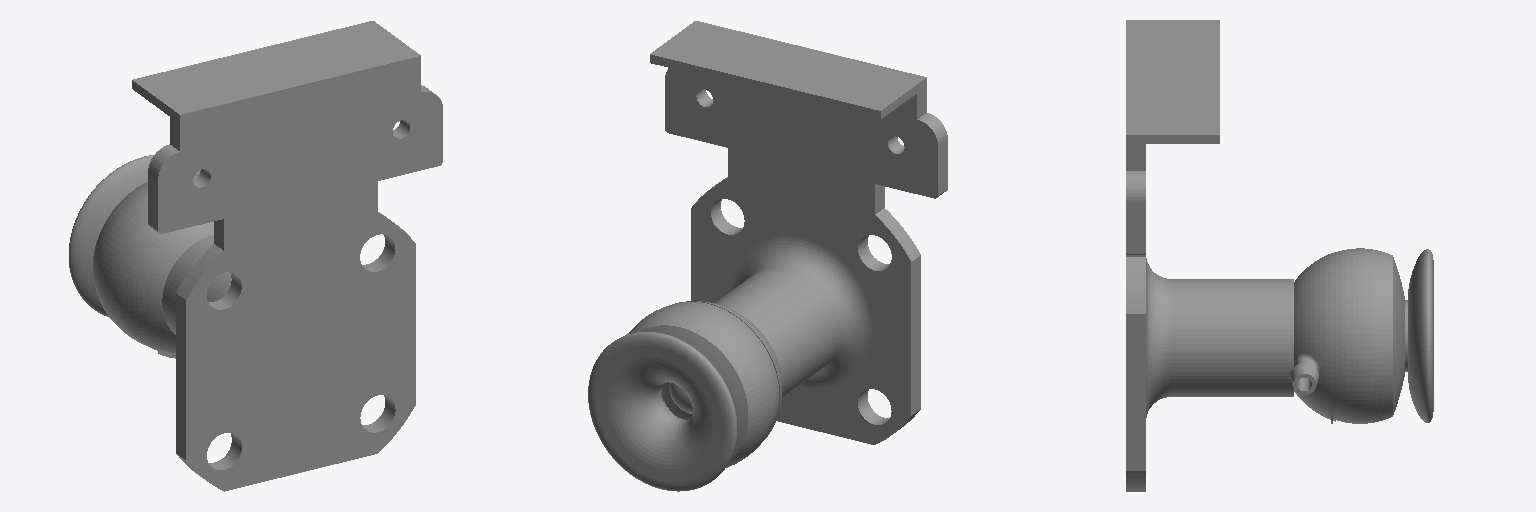
URDF robot description (ur3e_robot):
<?xml version="1.0" ?>
<!-- =================================================================================== -->
<!-- |    This document was autogenerated by xacro from [local-path]/PycharmProjects/realsense/catkin_ws/src/universal_robot/ur_description/urdf/ur3e.xacro | -->
<!-- |    EDITING THIS FILE BY HAND IS NOT RECOMMENDED                                 | -->
<!-- =================================================================================== -->
<robot name="ur3e_robot">
  <!--
    Base UR robot series xacro macro.

    NOTE: this is NOT a URDF. It cannot directly be loaded by consumers
    expecting a flattened '.urdf' file. See the top-level '.xacro' for that
    (but note: that .xacro must still be processed by the xacro command).

    For use in '.launch' files: use one of the 'load_urX.launch' convenience
    launch files.

    This file models the base kinematic chain of a UR robot, which then gets
    parameterised by various configuration files to convert it into a UR3(e),
    UR5(e), UR10(e), UR16e, UR20 or UR30.

    NOTE: the default kinematic parameters (ie: link lengths, frame locations,
    offets, etc) do not correspond to any particular robot. They are defaults
    only. There WILL be non-zero offsets between the Forward Kinematics results
    in TF (ie: robot_state_publisher) and the values reported by the Teach
    Pendant.

    For accurate (and robot-specific) transforms, the 'kinematics_parameters_file'
    parameter MUST point to a .yaml file containing the appropriate values for
    the targetted robot.

    If using the UniversalRobots/Universal_Robots_ROS_Driver, follow the steps
    described in the readme of that repository to extract the kinematic
    calibration from the controller and generate the required .yaml file.

    Main author of the migration to yaml configs: [author].

    Contributors to previous versions (in no particular order):

     - [author]
     - [author]
     - [author]
     - [author]
     - [author]
     - [author]
     - [author]
     - [author]
     - [author]
     - [author]
     - [author]
     - [author]
     - [author]
     - [author]
     - [author]
     - [author]
     - [author]
  -->
  <!--
    NOTE: the macro defined in this file is NOT part of the public API of this
          package. Users CANNOT rely on this file being available, or stored in
          this location. Nor can they rely on the existence of the macro.
  -->
  <transmission name="shoulder_pan_trans">
    <type>transmission_interface/SimpleTransmission</type>
    <joint name="shoulder_pan_joint">
      <hardwareInterface>hardware_interface/PositionJointInterface</hardwareInterface>
    </joint>
    <actuator name="shoulder_pan_motor">
      <mechanicalReduction>1</mechanicalReduction>
    </actuator>
  </transmission>
  <transmission name="shoulder_lift_trans">
    <type>transmission_interface/SimpleTransmission</type>
    <joint name="shoulder_lift_joint">
      <hardwareInterface>hardware_interface/PositionJointInterface</hardwareInterface>
    </joint>
    <actuator name="shoulder_lift_motor">
      <mechanicalReduction>1</mechanicalReduction>
    </actuator>
  </transmission>
  <transmission name="elbow_trans">
    <type>transmission_interface/SimpleTransmission</type>
    <joint name="elbow_joint">
      <hardwareInterface>hardware_interface/PositionJointInterface</hardwareInterface>
    </joint>
    <actuator name="elbow_motor">
      <mechanicalReduction>1</mechanicalReduction>
    </actuator>
  </transmission>
  <transmission name="wrist_1_trans">
    <type>transmission_interface/SimpleTransmission</type>
    <joint name="wrist_1_joint">
      <hardwareInterface>hardware_interface/PositionJointInterface</hardwareInterface>
    </joint>
    <actuator name="wrist_1_motor">
      <mechanicalReduction>1</mechanicalReduction>
    </actuator>
  </transmission>
  <transmission name="wrist_2_trans">
    <type>transmission_interface/SimpleTransmission</type>
    <joint name="wrist_2_joint">
      <hardwareInterface>hardware_interface/PositionJointInterface</hardwareInterface>
    </joint>
    <actuator name="wrist_2_motor">
      <mechanicalReduction>1</mechanicalReduction>
    </actuator>
  </transmission>
  <transmission name="wrist_3_trans">
    <type>transmission_interface/SimpleTransmission</type>
    <joint name="wrist_3_joint">
      <hardwareInterface>hardware_interface/PositionJointInterface</hardwareInterface>
    </joint>
    <actuator name="wrist_3_motor">
      <mechanicalReduction>1</mechanicalReduction>
    </actuator>
  </transmission>
  <!-- links: main serial chain -->
  <link name="base_link"/>
  <link name="base_link_inertia">
    <visual>
      <origin rpy="0 0 3.141592653589793" xyz="0 0 0"/>
      <geometry>
        <mesh filename="package://ur_description/meshes/ur3e/visual/base.dae"/>
      </geometry>
      <material name="LightGrey">
        <color rgba="0.7 0.7 0.7 1.0"/>
      </material>
    </visual>
    <collision>
      <origin rpy="0 0 3.141592653589793" xyz="0 0 0"/>
      <geometry>
        <mesh filename="package://ur_description/meshes/ur3e/collision/base.stl"/>
      </geometry>
    </collision>
    <inertial>
      <mass value="2.0"/>
      <origin rpy="0 0 0" xyz="0 0 0"/>
      <inertia ixx="0.0030531654454" ixy="0.0" ixz="0.0" iyy="0.0030531654454" iyz="0.0" izz="0.005625"/>
    </inertial>
  </link>
  <link name="shoulder_link">
    <visual>
      <origin rpy="0 0 3.141592653589793" xyz="0 0 0"/>
      <geometry>
        <mesh filename="package://ur_description/meshes/ur3e/visual/shoulder.dae"/>
      </geometry>
      <material name="LightGrey">
        <color rgba="0.7 0.7 0.7 1.0"/>
      </material>
    </visual>
    <collision>
      <origin rpy="0 0 3.141592653589793" xyz="0 0 0"/>
      <geometry>
        <mesh filename="package://ur_description/meshes/ur3e/collision/shoulder.stl"/>
      </geometry>
    </collision>
    <inertial>
      <mass value="2.0"/>
      <origin rpy="0 0 0" xyz="0 0 0"/>
      <inertia ixx="0.008093163429399999" ixy="0.0" ixz="0.0" iyy="0.008093163429399999" iyz="0.0" izz="0.005625"/>
    </inertial>
  </link>
  <link name="upper_arm_link">
    <visual>
      <origin rpy="1.5707963267948966 0 -1.5707963267948966" xyz="0 0 0.12"/>
      <geometry>
        <mesh filename="package://ur_description/meshes/ur3e/visual/upperarm.dae"/>
      </geometry>
      <material name="LightGrey">
        <color rgba="0.7 0.7 0.7 1.0"/>
      </material>
    </visual>
    <collision>
      <origin rpy="1.5707963267948966 0 -1.5707963267948966" xyz="0 0 0.12"/>
      <geometry>
        <mesh filename="package://ur_description/meshes/ur3e/collision/upperarm.stl"/>
      </geometry>
    </collision>
    <inertial>
      <mass value="3.42"/>
      <origin rpy="0 1.5707963267948966 0" xyz="-0.121825 0.0 0.12"/>
      <inertia ixx="0.021728483221103233" ixy="0.0" ixz="0.0" iyy="0.021728483221103233" iyz="0.0" izz="0.00961875"/>
    </inertial>
  </link>
  <link name="forearm_link">
    <visual>
      <origin rpy="1.5707963267948966 0 -1.5707963267948966" xyz="0 0 0.027"/>
      <geometry>
        <mesh filename="package://ur_description/meshes/ur3e/visual/forearm.dae"/>
      </geometry>
      <material name="LightGrey">
        <color rgba="0.7 0.7 0.7 1.0"/>
      </material>
    </visual>
    <collision>
      <origin rpy="1.5707963267948966 0 -1.5707963267948966" xyz="0 0 0.027"/>
      <geometry>
        <mesh filename="package://ur_description/meshes/ur3e/collision/forearm.stl"/>
      </geometry>
    </collision>
    <inertial>
      <mass value="1.26"/>
      <origin rpy="0 1.5707963267948966 0" xyz="-0.1066 0.0 0.027"/>
      <inertia ixx="0.0065445675821719194" ixy="0.0" ixz="0.0" iyy="0.0065445675821719194" iyz="0.0" izz="0.00354375"/>
    </inertial>
  </link>
  <link name="wrist_1_link">
    <visual>
      <!-- TODO: Move this to a parameter -->
      <origin rpy="1.5707963267948966 0 0" xyz="0 0 -0.104"/>
      <geometry>
        <mesh filename="package://ur_description/meshes/ur3e/visual/wrist1.dae"/>
      </geometry>
      <material name="LightGrey">
        <color rgba="0.7 0.7 0.7 1.0"/>
      </material>
    </visual>
    <collision>
      <origin rpy="1.5707963267948966 0 0" xyz="0 0 -0.104"/>
      <geometry>
        <mesh filename="package://ur_description/meshes/ur3e/collision/wrist1.stl"/>
      </geometry>
    </collision>
    <inertial>
      <mass value="0.8"/>
      <origin rpy="0 0 0" xyz="0 0 0"/>
      <inertia ixx="0.002084999166" ixy="0.0" ixz="0.0" iyy="0.002084999166" iyz="0.0" izz="0.00225"/>
    </inertial>
  </link>
  <link name="wrist_2_link">
    <visual>
      <origin rpy="0 0 0" xyz="0 0 -0.08535"/>
      <geometry>
        <mesh filename="package://ur_description/meshes/ur3e/visual/wrist2.dae"/>
      </geometry>
      <material name="LightGrey">
        <color rgba="0.7 0.7 0.7 1.0"/>
      </material>
    </visual>
    <collision>
      <origin rpy="0 0 0" xyz="0 0 -0.08535"/>
      <geometry>
        <mesh filename="package://ur_description/meshes/ur3e/collision/wrist2.stl"/>
      </geometry>
    </collision>
    <inertial>
      <mass value="0.8"/>
      <origin rpy="0 0 0" xyz="0 0 0"/>
      <inertia ixx="0.002084999166" ixy="0.0" ixz="0.0" iyy="0.002084999166" iyz="0.0" izz="0.00225"/>
    </inertial>
  </link>
  <link name="wrist_3_link">
    <visual>
      <origin rpy="1.5707963267948966 0 0" xyz="0 0 -0.0921"/>
      <geometry>
        <mesh filename="package://ur_description/meshes/ur3e/visual/wrist3.dae"/>
      </geometry>
      <material name="LightGrey">
        <color rgba="0.7 0.7 0.7 1.0"/>
      </material>
    </visual>
    <collision>
      <origin rpy="1.5707963267948966 0 0" xyz="0 0 -0.0921"/>
      <geometry>
        <mesh filename="package://ur_description/meshes/ur3e/collision/wrist3.stl"/>
      </geometry>
    </collision>
    <inertial>
      <mass value="0.35"/>
      <origin rpy="0 0 0" xyz="0.0 0.0 -0.02"/>
      <inertia ixx="0.00013626661215999998" ixy="0.0" ixz="0.0" iyy="0.00013626661215999998" iyz="0.0" izz="0.0001792"/>
    </inertial>
  </link>
  <!-- joints: main serial chain -->
  <joint name="base_link-base_link_inertia" type="fixed">
    <parent link="base_link"/>
    <child link="base_link_inertia"/>
    <!-- 'base_link' is REP-103 aligned (so X+ forward), while the internal
           frames of the robot/controller have X+ pointing backwards.
           Use the joint between 'base_link' and 'base_link_inertia' (a dummy
           link/frame) to introduce the necessary rotation over Z (of pi rad).
      -->
    <origin rpy="0 0 3.141592653589793" xyz="0 0 0"/>
  </joint>
  <joint name="shoulder_pan_joint" type="revolute">
    <parent link="base_link_inertia"/>
    <child link="shoulder_link"/>
    <origin rpy="0 0 0" xyz="0 0 0.15185"/>
    <axis xyz="0 0 1"/>
    <limit effort="56.0" lower="-6.283185307179586" upper="6.283185307179586" velocity="3.141592653589793"/>
    <dynamics damping="0" friction="0"/>
  </joint>
  <joint name="shoulder_lift_joint" type="revolute">
    <parent link="shoulder_link"/>
    <child link="upper_arm_link"/>
    <origin rpy="1.570796327 0 0" xyz="0 0 0"/>
    <axis xyz="0 0 1"/>
    <limit effort="56.0" lower="-6.283185307179586" upper="6.283185307179586" velocity="3.141592653589793"/>
    <dynamics damping="0" friction="0"/>
  </joint>
  <joint name="elbow_joint" type="revolute">
    <parent link="upper_arm_link"/>
    <child link="forearm_link"/>
    <origin rpy="0 0 0" xyz="-0.24355 0 0"/>
    <axis xyz="0 0 1"/>
    <limit effort="28.0" lower="-3.141592653589793" upper="3.141592653589793" velocity="3.141592653589793"/>
    <dynamics damping="0" friction="0"/>
  </joint>
  <joint name="wrist_1_joint" type="revolute">
    <parent link="forearm_link"/>
    <child link="wrist_1_link"/>
    <origin rpy="0 0 0" xyz="-0.2132 0 0.13105"/>
    <axis xyz="0 0 1"/>
    <limit effort="12.0" lower="-6.283185307179586" upper="6.283185307179586" velocity="6.283185307179586"/>
    <dynamics damping="0" friction="0"/>
  </joint>
  <joint name="wrist_2_joint" type="revolute">
    <parent link="wrist_1_link"/>
    <child link="wrist_2_link"/>
    <origin rpy="1.570796327 0 0" xyz="0 -0.08535 -1.750557762378351e-11"/>
    <axis xyz="0 0 1"/>
    <limit effort="12.0" lower="-6.283185307179586" upper="6.283185307179586" velocity="6.283185307179586"/>
    <dynamics damping="0" friction="0"/>
  </joint>
  <joint name="wrist_3_joint" type="revolute">
    <parent link="wrist_2_link"/>
    <child link="wrist_3_link"/>
    <origin rpy="1.570796326589793 3.141592653589793 3.141592653589793" xyz="0 0.0921 -1.8890025766262e-11"/>
    <axis xyz="0 0 1"/>
    <limit effort="12.0" lower="-6.283185307179586" upper="6.283185307179586" velocity="6.283185307179586"/>
    <dynamics damping="0" friction="0"/>
  </joint>
  <!-- ROS-Industrial 'base' frame: base_link to UR 'Base' Coordinates transform -->
  <link name="base"/>
  <joint name="base_link-base_fixed_joint" type="fixed">
    <!-- Note the rotation over Z of pi radians: as base_link is REP-103
           aligned (ie: has X+ forward, Y+ left and Z+ up), this is needed
           to correctly align 'base' with the 'Base' coordinate system of
           the UR controller.
      -->
    <origin rpy="0 0 3.141592653589793" xyz="0 0 0"/>
    <parent link="base_link"/>
    <child link="base"/>
  </joint>
  <!-- ROS-Industrial 'flange' frame: attachment point for EEF models -->
  <link name="flange"/>
  <joint name="wrist_3-flange" type="fixed">
    <parent link="wrist_3_link"/>
    <child link="flange"/>
    <origin rpy="0 -1.5707963267948966 -1.5707963267948966" xyz="0 0 0"/>
  </joint>
  <!-- ROS-Industrial 'tool0' frame: all-zeros tool frame -->
  <link name="tool0"/>
  <joint name="flange-tool0" type="fixed">
    <!-- default toolframe: X+ left, Y+ up, Z+ front -->
    <origin rpy="1.5707963267948966 0 1.5707963267948966" xyz="0 0 0"/>
    <parent link="flange"/>
    <child link="tool0"/>
  </joint>
  <!-- Gripper Link -->
  <link name="gripper">
    <visual>
      <origin rpy="0 0 3.14" xyz="0 0 -0.054"/>
      <geometry>
        <mesh filename="package://gripper/meshes/AOS_mount.dae" scale="0.001 0.001 0.001"/>
      </geometry>
    </visual>
    <collision>
      <origin rpy="0 0 0" xyz="0 0 0.01"/>
      <geometry>
        <sphere radius="0.005"/>
      </geometry>
    </collision>
    <inertial>
      <origin rpy="0 0 0" xyz="0 0 0"/>
      <mass value="0.2"/>
      <inertia ixx="0.0001" ixy="0.0" ixz="0.0" iyy="0.001" iyz="0.0" izz="0.001"/>
    </inertial>
  </link>
  <!-- Joint connecting tool0 to gripper -->
  <joint name="tool0_gripper_joint" type="fixed">
    <parent link="tool0"/>
    <child link="gripper"/>
    <origin rpy="0 0 0" xyz="0 0 0.053"/>
  </joint>
</robot>

--- What the picture shows (computed from the rendered views, not written in the file) ---
The picture shows the robot from 3 angles, left to right: view 1: azimuth 30°, elevation 25°; view 2: azimuth 150°, elevation 25°; view 3: azimuth 270°, elevation 25°; orthographic projection.
Robot: ur3e_robot — 12 links, 11 joints (6 revolute, 5 fixed); root link base_link; default pose: all joints at 0.
Links seen in each view (by area): view 1: gripper; view 2: gripper; view 3: gripper.
Boxes of the visible links, <box> form: gripper: <box>69,21,442,491</box>; gripper: <box>588,21,947,491</box>; gripper: <box>1126,20,1433,491</box>.
Size in the robot's own frame: 0.065 by 0.0623 by 0.0845 metres.
Meshes: 8 distinct files referenced, 1 mesh visuals loaded (1 Collada DAE); not drawn: 7 (reference not matched to a file when rendering).